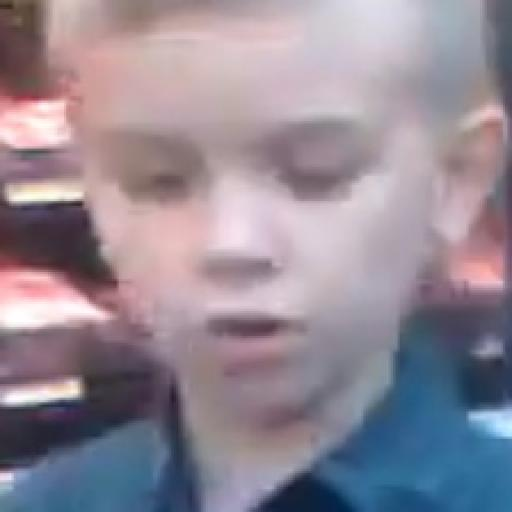Autism: (37, 0, 493, 435)
